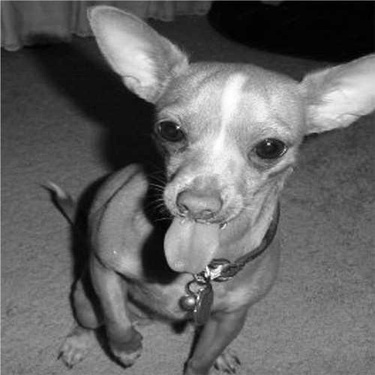dog: (43, 4, 372, 373)
